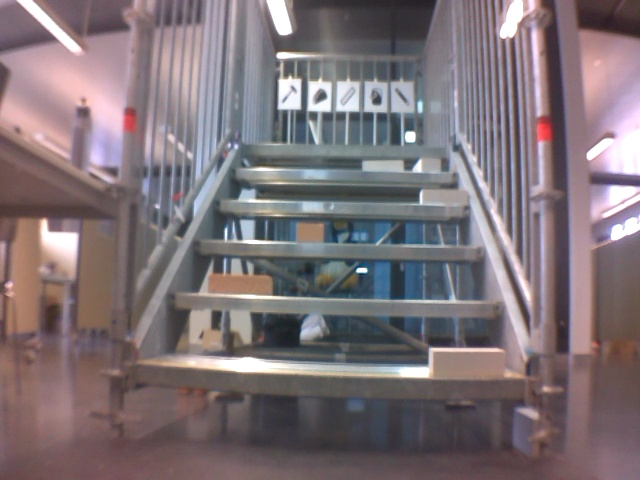brick: (427, 348, 503, 378), (210, 275, 271, 295), (420, 189, 471, 205), (363, 160, 402, 172), (297, 224, 322, 242), (414, 158, 441, 171)
bucket: (368, 86, 384, 107)
edge: (137, 364, 528, 398), (171, 293, 503, 316), (196, 240, 483, 259), (214, 201, 470, 216), (230, 169, 457, 182), (241, 143, 446, 157)
hammer: (280, 83, 299, 107)
pencil: (393, 86, 411, 108)
ruler: (337, 83, 357, 109)
stairs: (109, 4, 561, 456)
steps: (129, 139, 531, 405)
taco: (310, 85, 328, 107)
